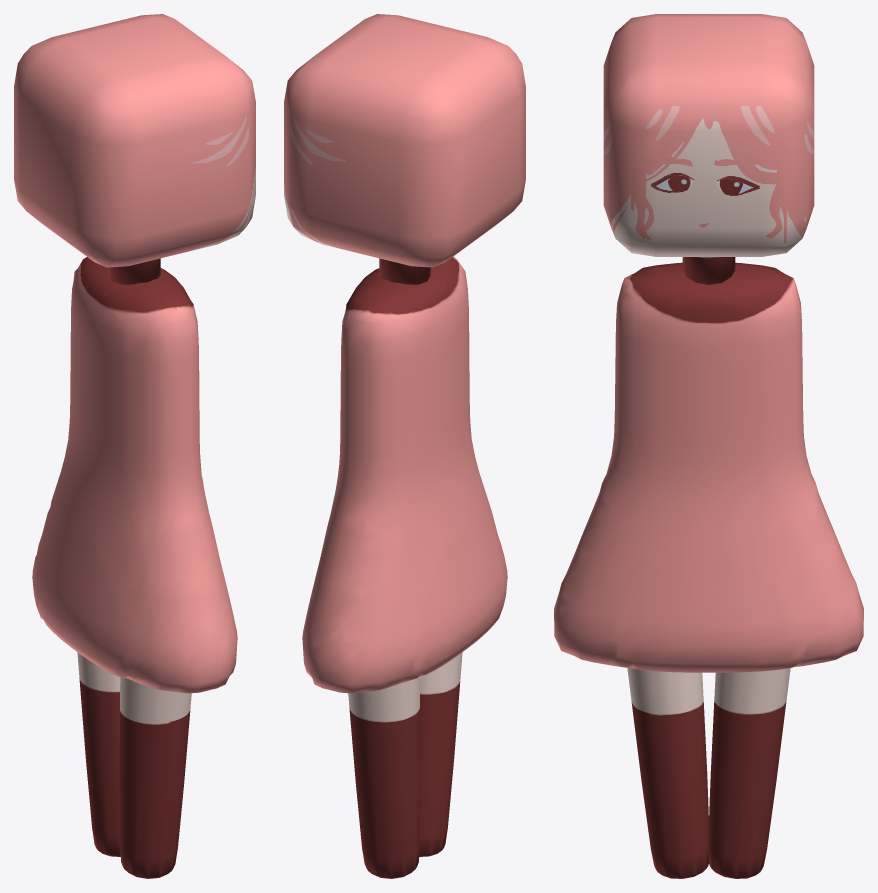
File: mobChara_faye.fbx
3 renders of one model, left to right at view 1: azimuth 30°, elevation 25°; view 2: azimuth 150°, elevation 25°; view 3: azimuth 270°, elevation 25°, orthographic. The views are drawn at different scales.
Visible parts, largest first — view 1: mobChara3.002; view 2: mobChara3.002; view 3: mobChara3.002.
Boxes of the visible parts, x1,y1,x2,y2 form: mobChara3.002: (14, 14, 255, 878); mobChara3.002: (284, 14, 525, 878); mobChara3.002: (554, 14, 863, 878).
Size of the model in its own units: 100 by 435 by 147.
Materials: 2 (2 with a texture image).
